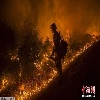fire: (18, 27, 98, 99), (0, 77, 7, 93)
